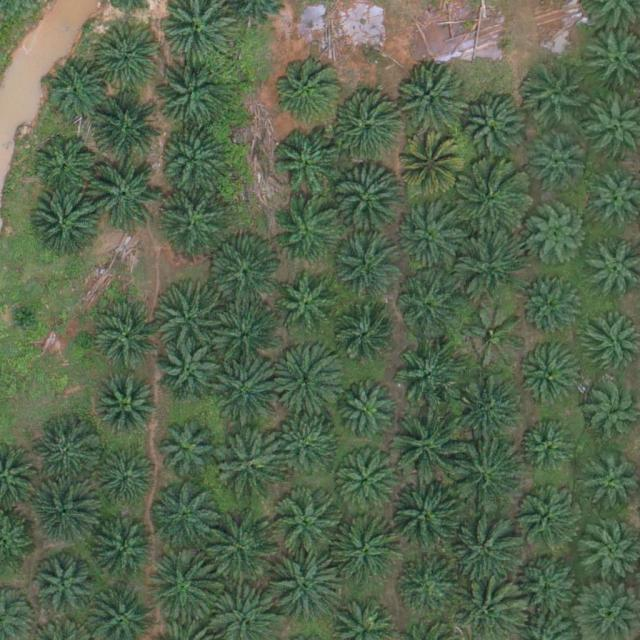Healthy: (391, 480, 462, 551), (272, 131, 343, 202), (270, 345, 341, 416), (145, 553, 216, 624), (156, 63, 227, 134), (92, 23, 163, 94), (452, 442, 522, 513), (452, 370, 522, 441), (454, 233, 525, 303), (390, 414, 461, 484), (334, 167, 404, 238), (330, 516, 400, 587), (274, 197, 344, 268), (275, 552, 345, 623), (214, 355, 284, 426), (150, 481, 220, 552), (162, 122, 232, 193), (157, 186, 227, 257), (87, 159, 157, 230), (29, 192, 100, 262), (519, 62, 589, 133), (456, 93, 527, 163), (396, 66, 466, 137), (273, 55, 343, 126), (92, 90, 162, 161), (450, 514, 520, 584), (457, 163, 527, 233), (394, 338, 464, 408), (274, 492, 344, 562), (212, 244, 282, 314), (217, 429, 287, 499), (206, 512, 276, 582), (157, 279, 227, 349), (30, 478, 100, 548), (327, 94, 397, 164), (519, 346, 582, 409), (337, 240, 400, 303), (334, 453, 397, 516), (275, 274, 338, 337), (214, 304, 277, 367), (157, 421, 220, 484), (94, 522, 157, 585), (45, 61, 108, 124), (521, 274, 583, 337), (519, 488, 581, 551), (519, 551, 582, 613), (395, 204, 457, 267), (396, 274, 458, 337), (399, 558, 461, 621), (332, 311, 395, 373), (277, 419, 339, 482), (158, 340, 220, 403), (96, 309, 158, 372), (97, 377, 159, 440), (34, 136, 96, 199), (35, 425, 98, 487), (34, 559, 96, 622), (523, 208, 585, 270), (97, 450, 159, 512), (341, 386, 396, 442), (585, 457, 640, 512), (521, 424, 576, 479), (531, 139, 585, 194)
Small: (8, 301, 39, 333)
Yellow: (464, 305, 527, 368), (399, 138, 461, 200)
